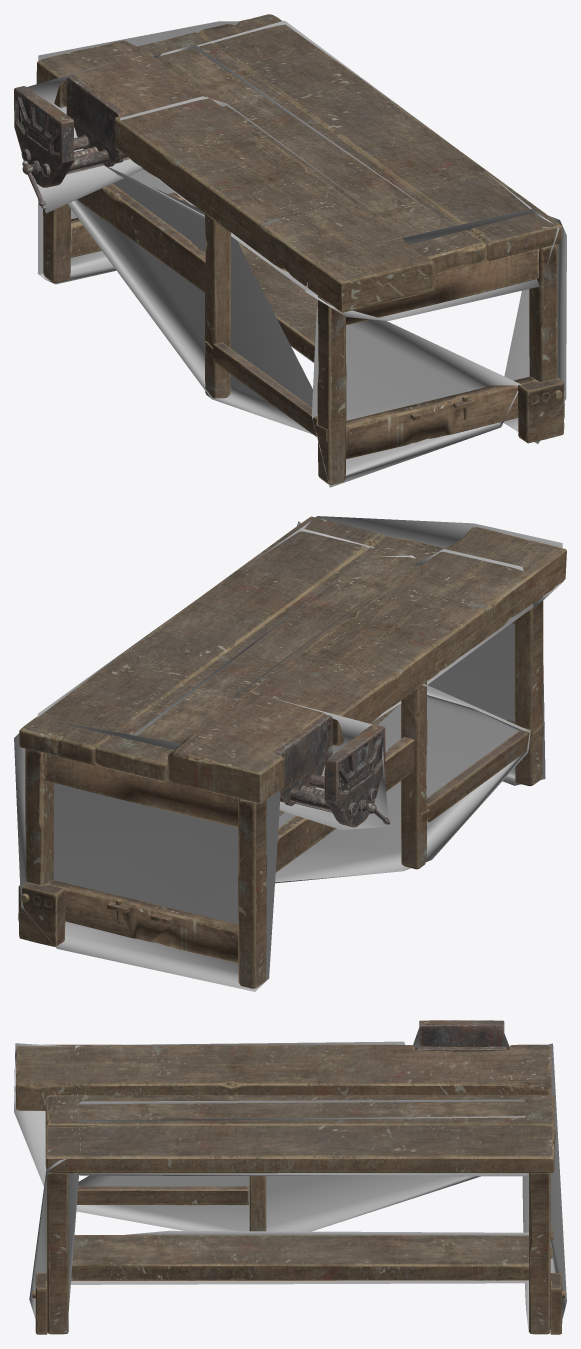
Rendered from SM_Workbench_03.gltf.
3 views of the same model, one above another, from view 1: azimuth 30°, elevation 25°; view 2: azimuth 150°, elevation 25°; view 3: azimuth 270°, elevation 25° (orthographic). The views are drawn at different scales.
Parts seen in each view (by area): view 1: SM_Workbench_03_LOD0, SM_Workbench_03_ConvexHulls; view 2: SM_Workbench_03_LOD0, SM_Workbench_03_ConvexHulls; view 3: SM_Workbench_03_LOD0, SM_Workbench_03_ConvexHulls.
Boxes of the visible parts, bbox=[...] form: SM_Workbench_03_LOD0: bbox=[14, 14, 564, 484]; SM_Workbench_03_ConvexHulls: bbox=[20, 20, 566, 487]; SM_Workbench_03_LOD0: bbox=[18, 516, 566, 988]; SM_Workbench_03_ConvexHulls: bbox=[14, 516, 563, 991]; SM_Workbench_03_LOD0: bbox=[15, 1020, 565, 1334]; SM_Workbench_03_ConvexHulls: bbox=[14, 1020, 566, 1332].
Size of what is drawn, in the model's own units: 1.56 by 1.11 by 2.77.
